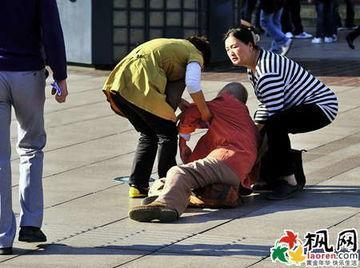Fall-Detected: (126, 77, 262, 221)
